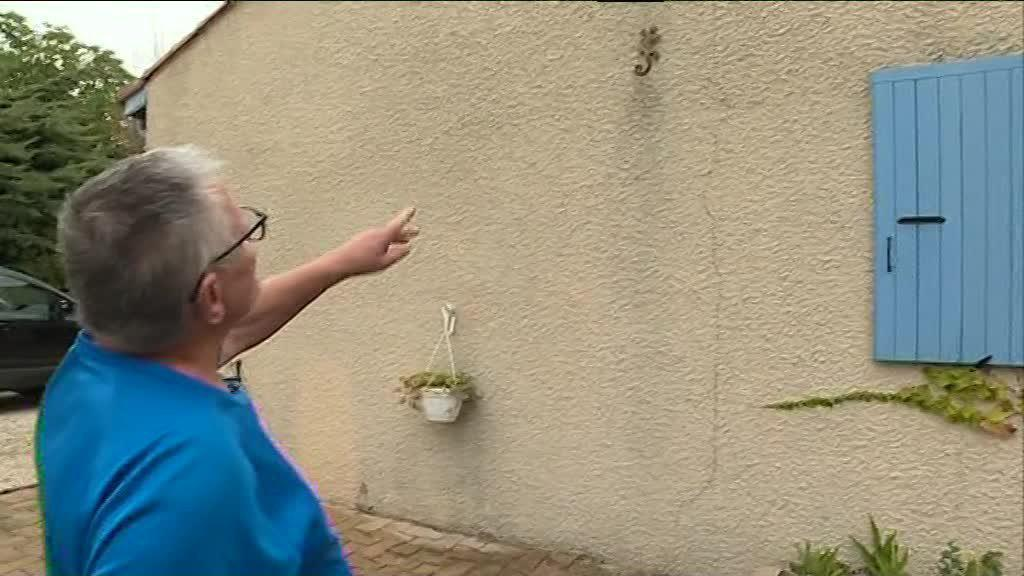crack: (675, 134, 720, 525)
